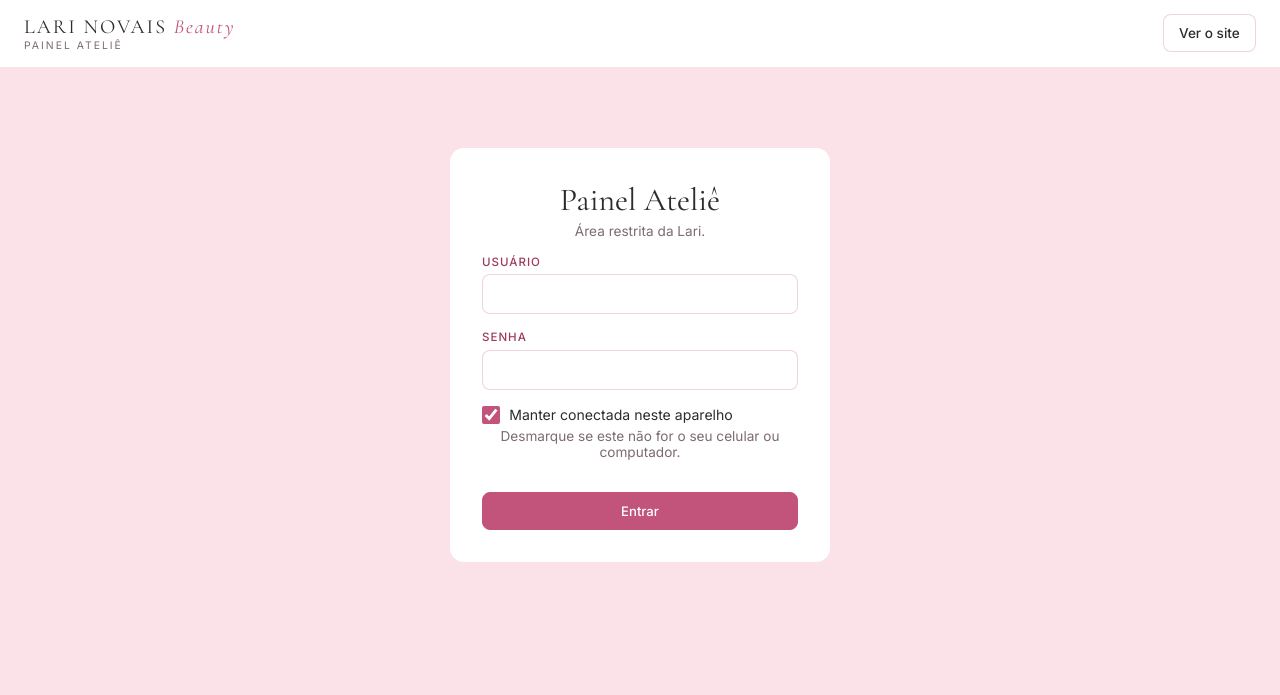
it: Painel Ateliê › recusa com motivo
Type "lari" into the field labelled "Usuário" at coordinates (640, 294), box [482, 274, 798, 314]
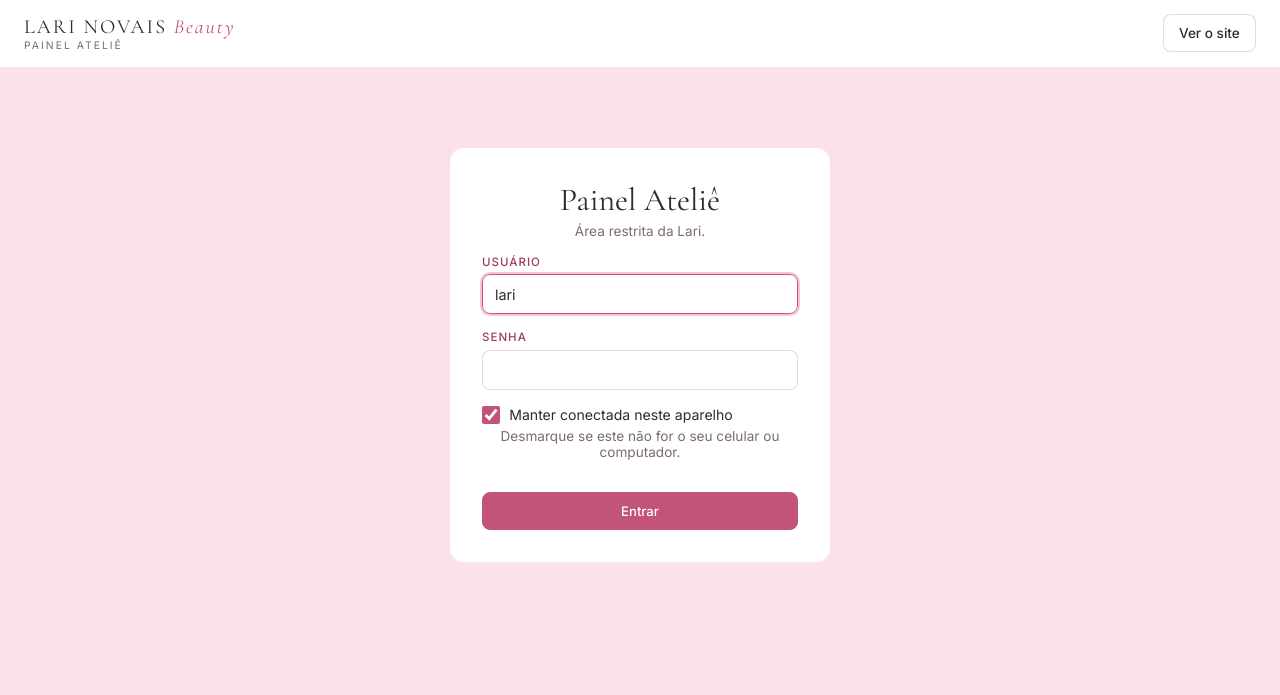
Type "segredo" into the password field labelled "Senha" at coordinates (640, 370), box [482, 350, 798, 390]
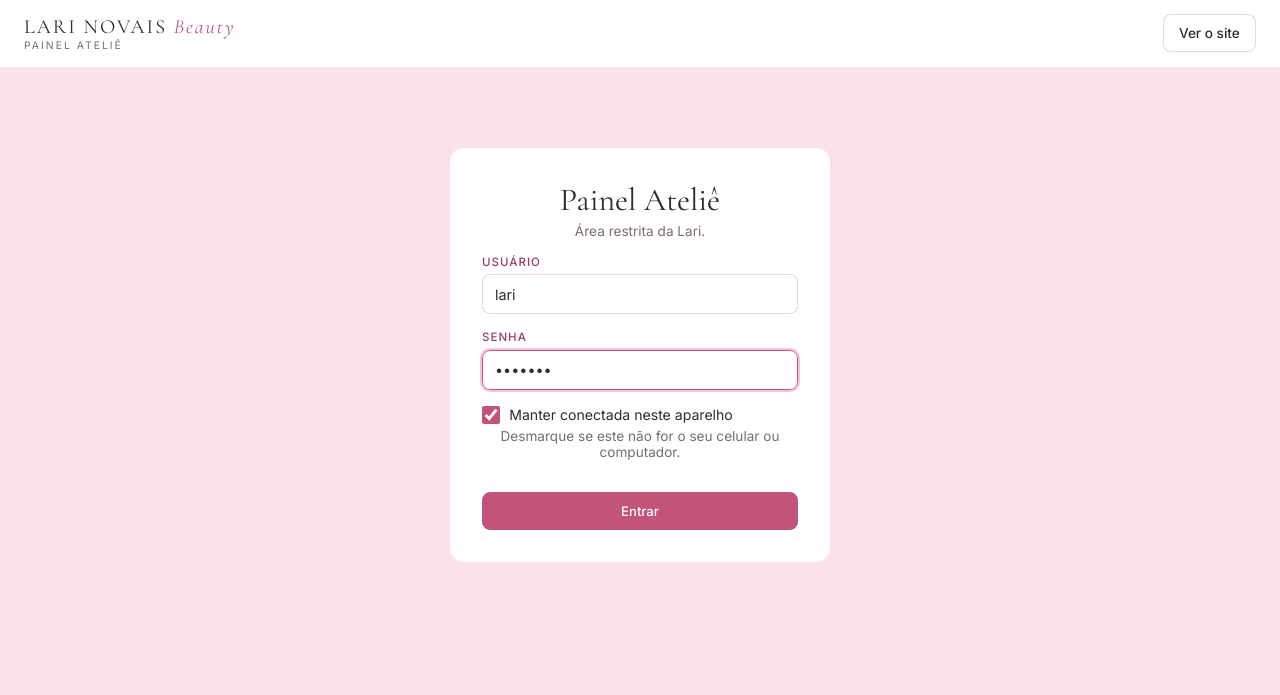
Click the button "Entrar" at coordinates (640, 511), box [482, 492, 798, 530]
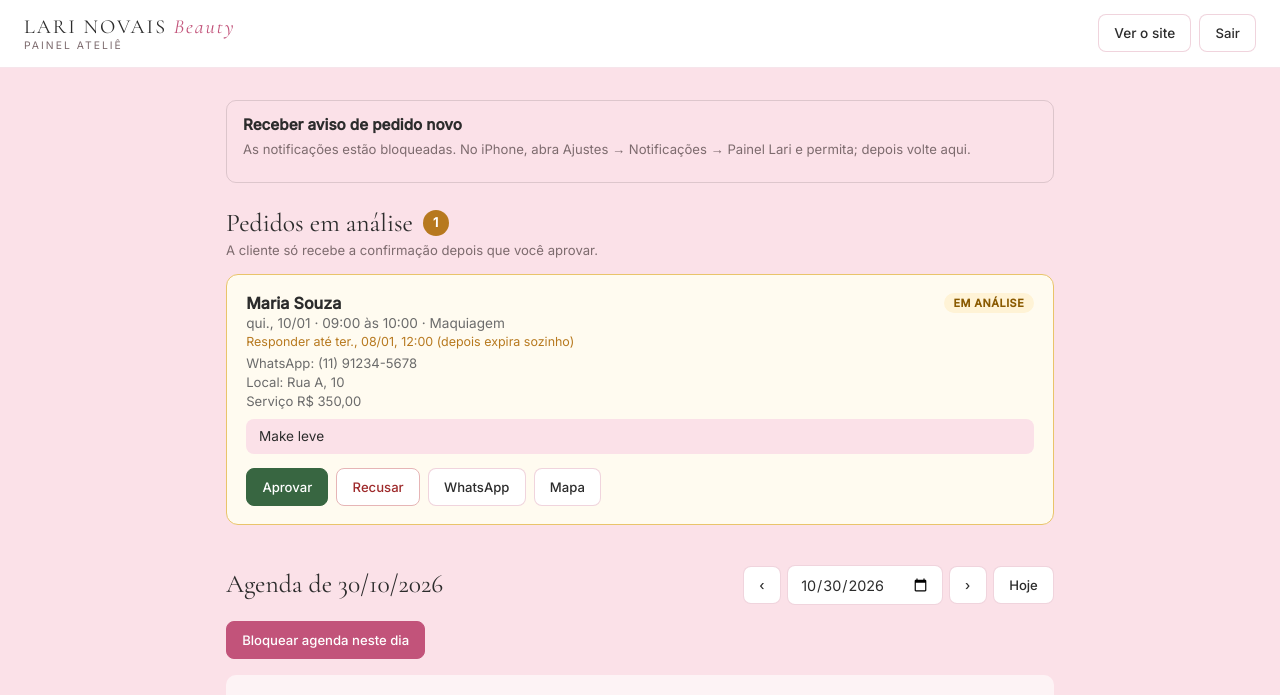
Click the button "Recusar" at coordinates (378, 488), box [336, 468, 420, 506]
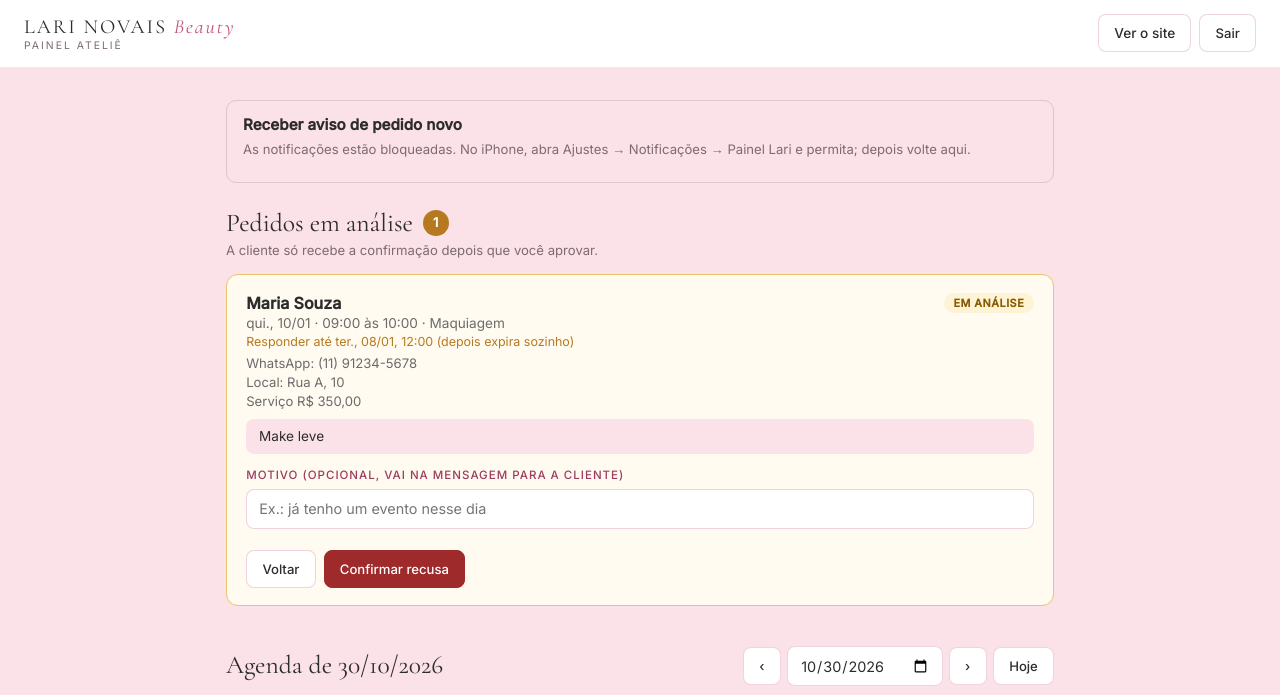
Type "Já tenho evento" into the field labelled "Motivo (opcional, vai na mensagem para a cliente)" at coordinates (640, 509), box [246, 489, 1034, 529]
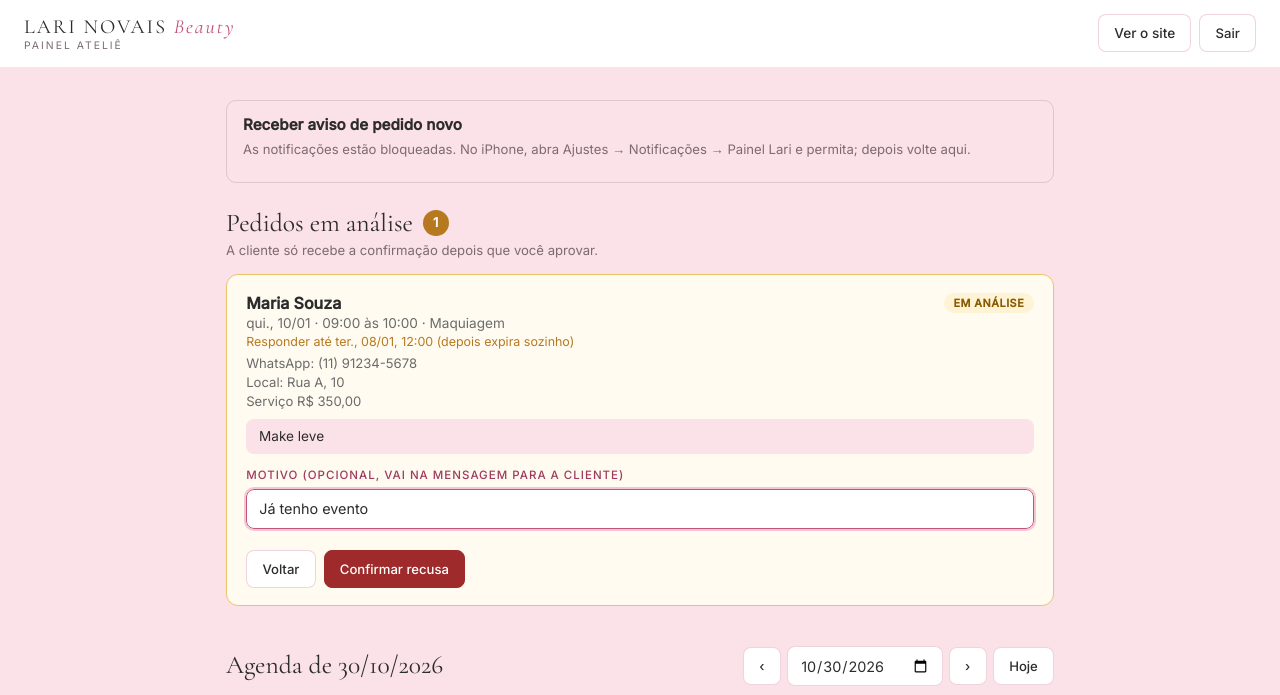
Click the button "Confirmar recusa" at coordinates (394, 569), box [324, 550, 465, 588]
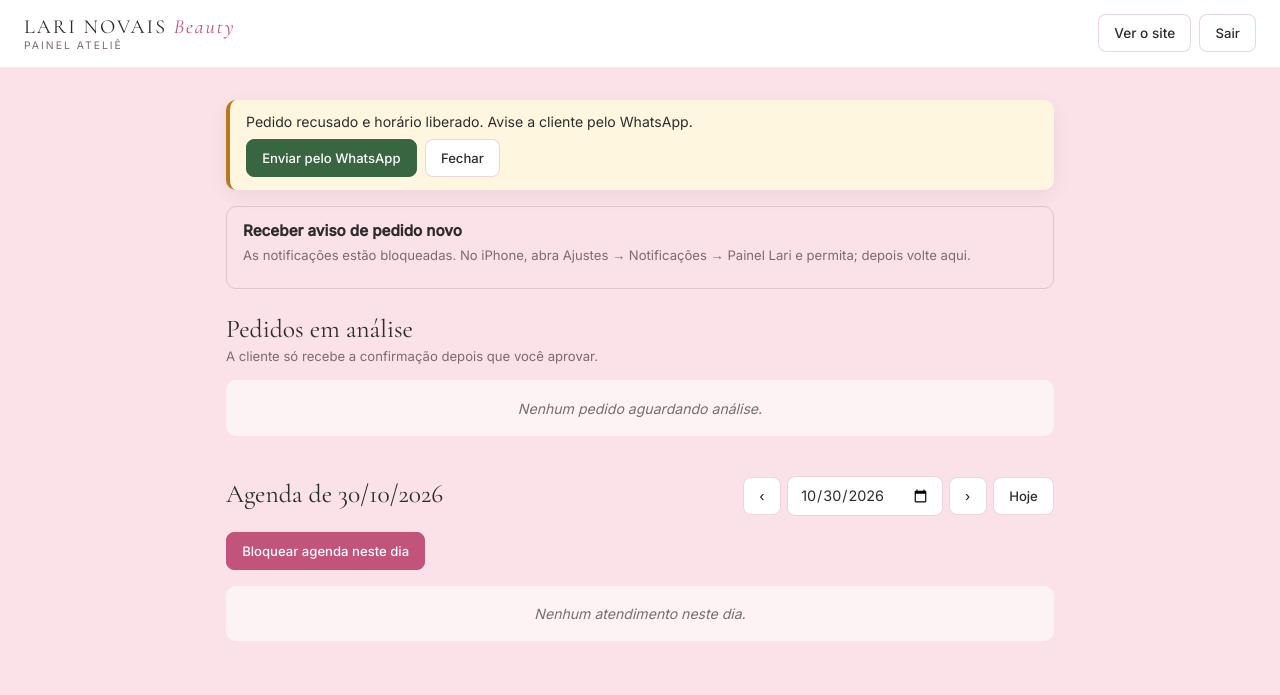
Expected: the text "Pedido recusado" is shown, [246, 113, 693, 130]
Expected: the link "Enviar pelo WhatsApp" is shown, [246, 139, 417, 177]
